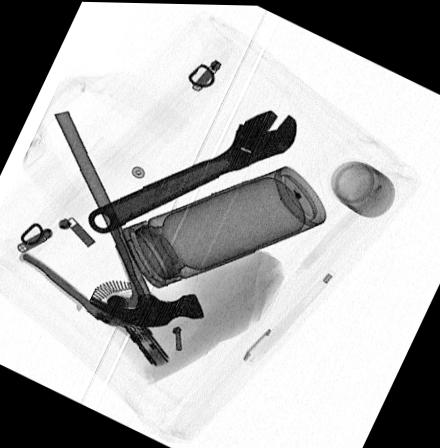Hammer: (51, 107, 210, 325)
Pliers: (16, 205, 171, 367)
Wrench: (87, 107, 299, 230)
